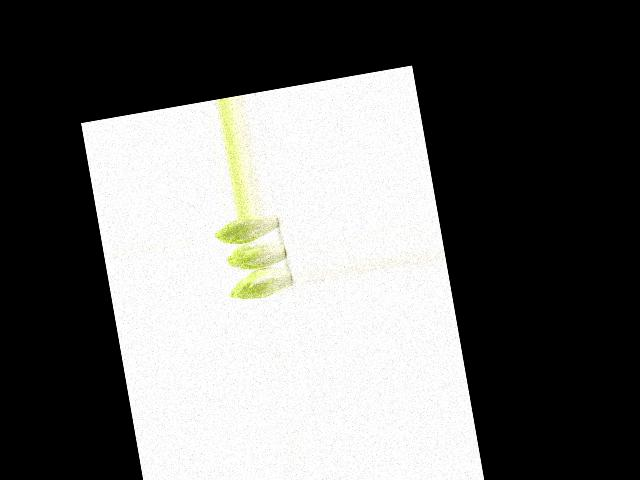lettuce: (225, 264, 297, 303)
